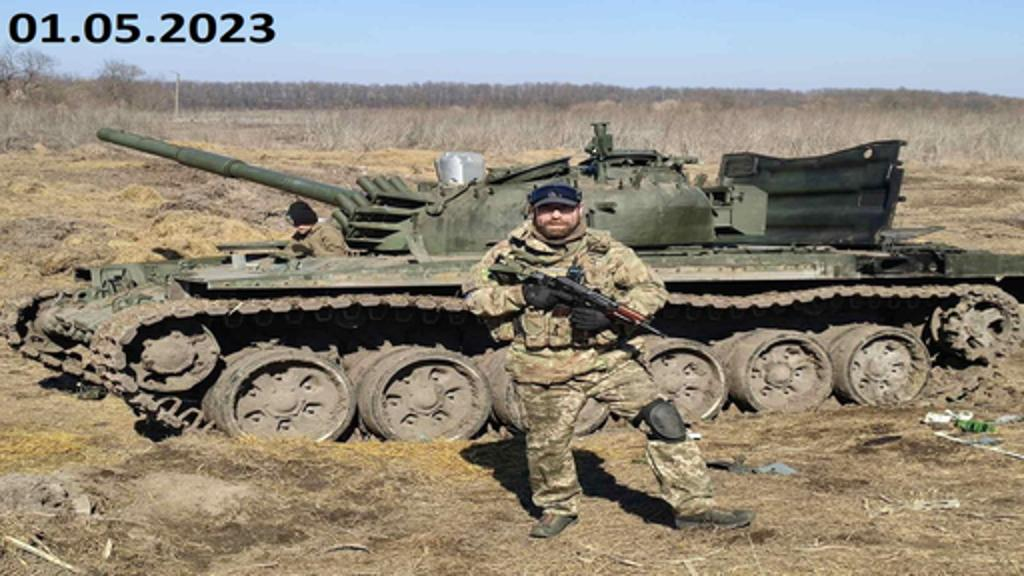TANK: (8, 114, 1016, 448)
